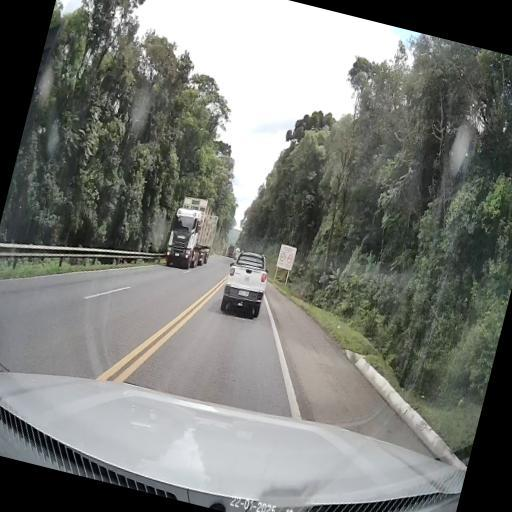R-19: (279, 252, 286, 262), (286, 254, 293, 264)
